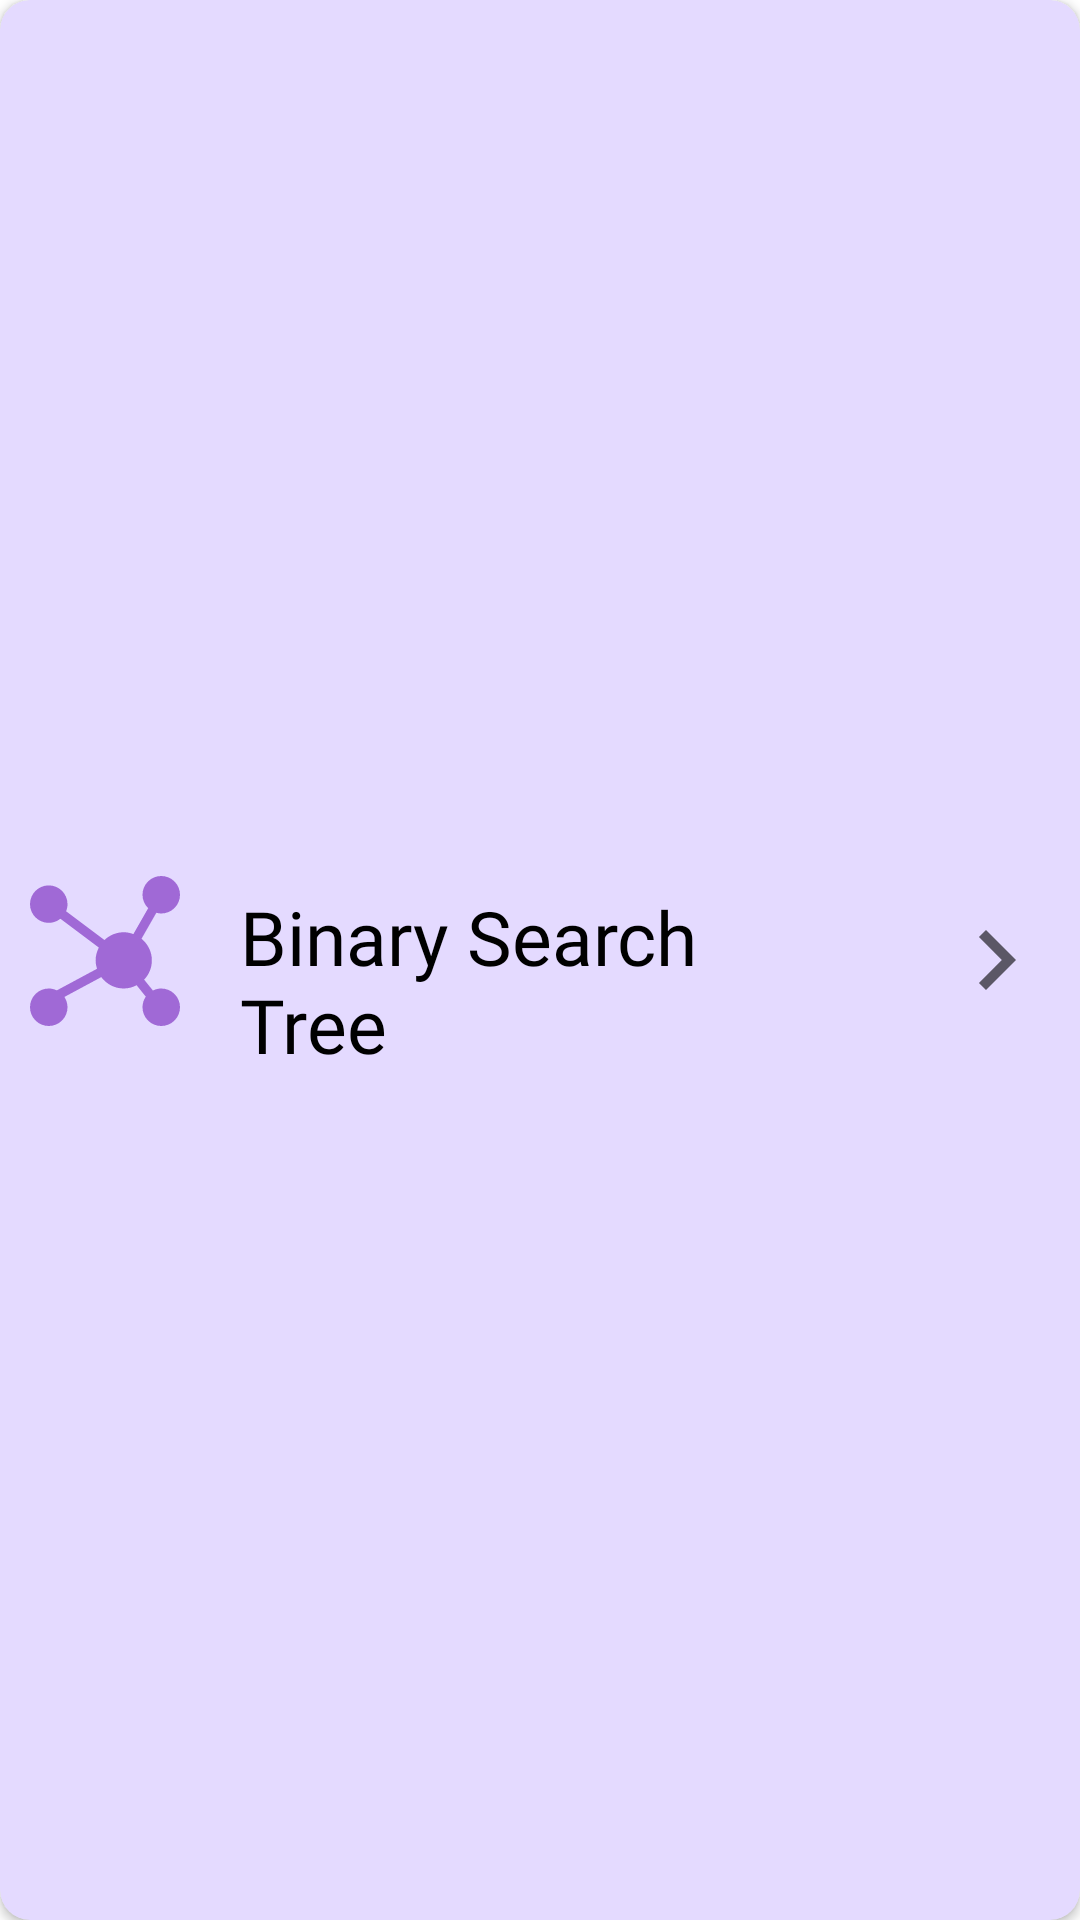

Icon bounding boxes for this 1080 × 1920 phone screenshot, format (x1, y1, x2, y2):
navigate next: (979, 930, 1016, 990)
